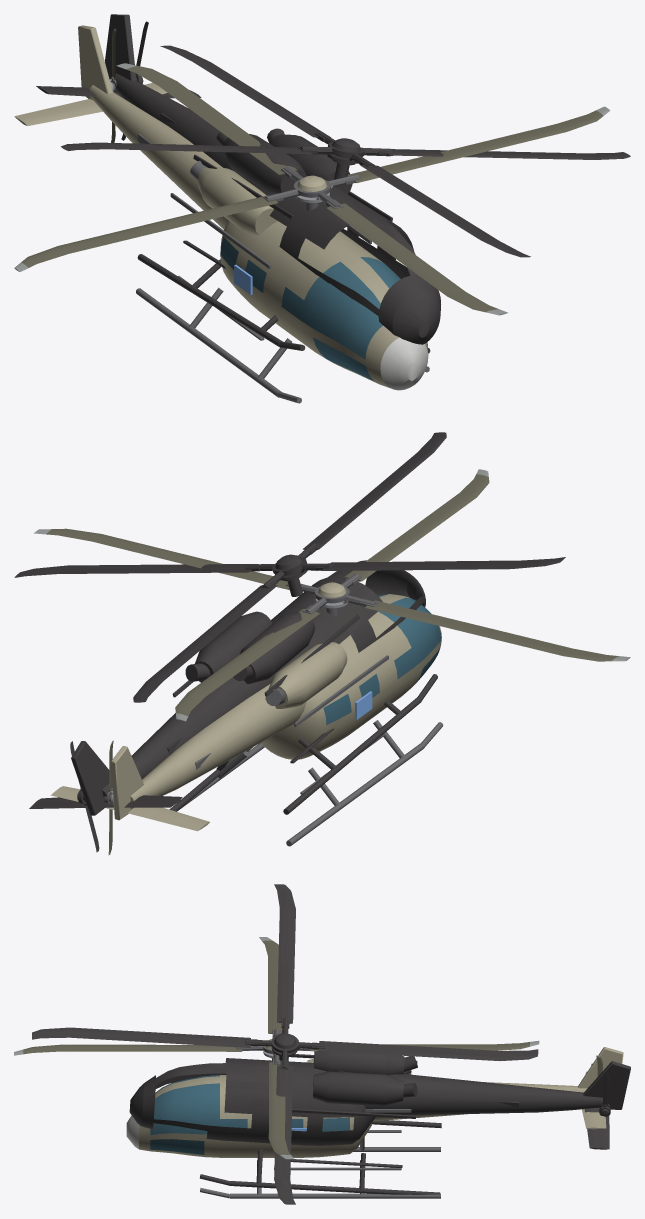
The model's file is helicopter__uh_2.glb.
3 renders of one model, top to bottom at view 1: azimuth 30°, elevation 25°; view 2: azimuth 150°, elevation 25°; view 3: azimuth 270°, elevation 25°, orthographic. The views are drawn at different scales.
Parts seen in each view (by area): view 1: Wreck, Fuselage_Mesh, Rotor_Main_Mesh, Engines_Mesh, Landing_Gear_Mesh; view 2: Wreck, Fuselage_Mesh, Rotor_Main_Mesh, Engines_Mesh, Landing_Gear_Mesh; view 3: Wreck, Fuselage_Mesh, Rotor_Main_Mesh, Landing_Gear_Mesh.
Boxes of the visible parts, bbox=[...] form: Wreck: bbox=[36, 14, 630, 353]; Fuselage_Mesh: bbox=[14, 25, 428, 390]; Rotor_Main_Mesh: bbox=[14, 63, 610, 315]; Engines_Mesh: bbox=[190, 161, 277, 235]; Landing_Gear_Mesh: bbox=[136, 287, 429, 403]; Wreck: bbox=[14, 432, 565, 852]; Fuselage_Mesh: bbox=[50, 594, 441, 831]; Rotor_Main_Mesh: bbox=[34, 469, 630, 721]; Engines_Mesh: bbox=[265, 642, 347, 708]; Landing_Gear_Mesh: bbox=[177, 720, 443, 846]; Wreck: bbox=[32, 884, 630, 1204]; Fuselage_Mesh: bbox=[126, 1047, 623, 1170]; Rotor_Main_Mesh: bbox=[14, 937, 539, 1159]; Landing_Gear_Mesh: bbox=[200, 1137, 440, 1198].
Size of what is drawn, in the model's own units: 14.48 by 5.93 by 16.47.
